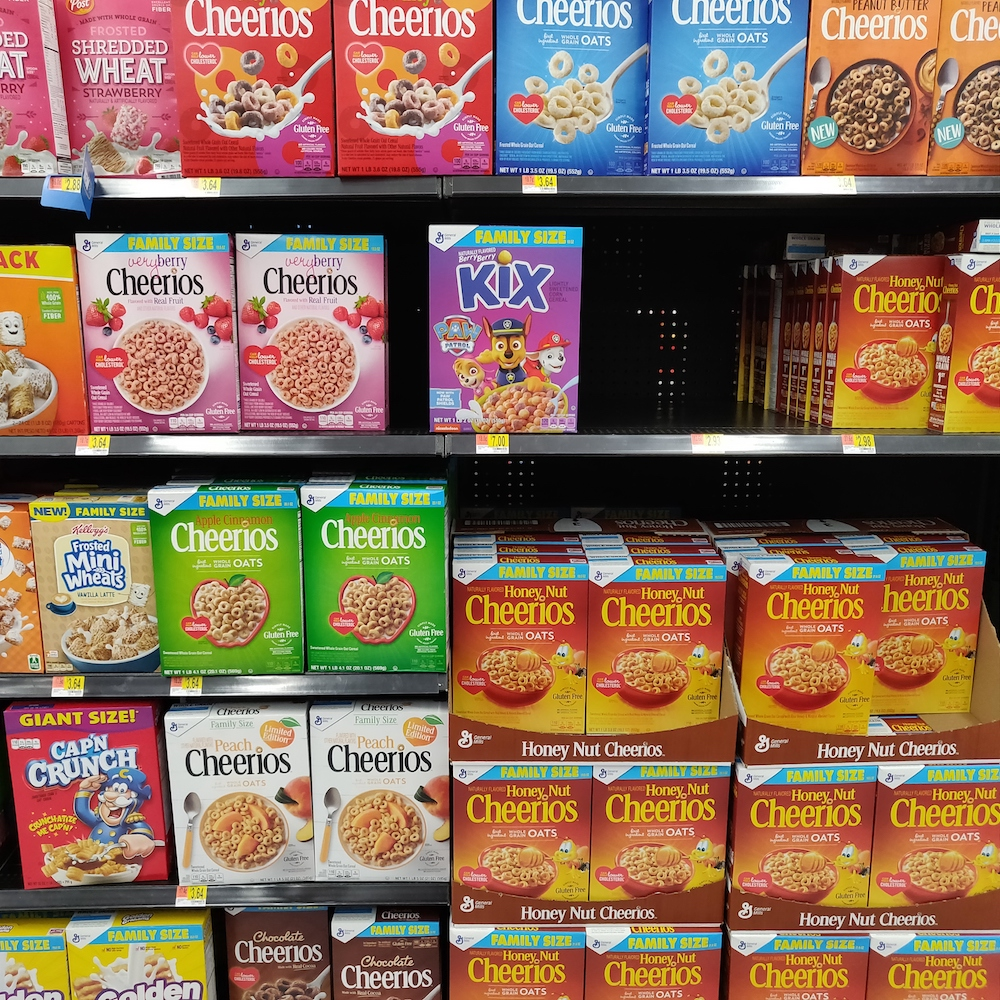Kix Berry -568919964: (430, 252, 582, 435)
